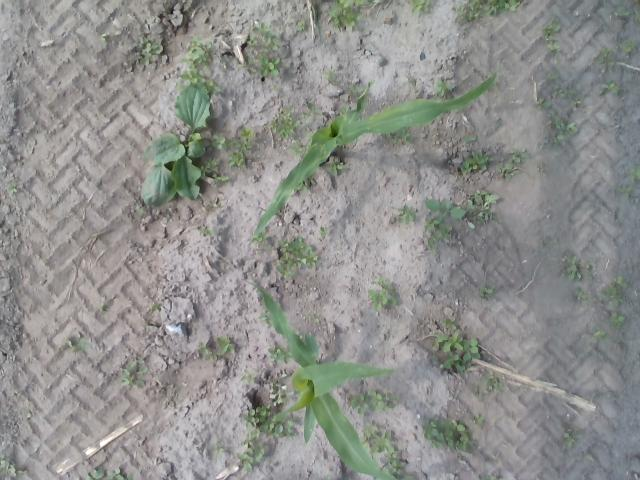Maize: (249, 62, 500, 244), (245, 280, 412, 480)
Weeds: (142, 84, 210, 211), (422, 190, 500, 248), (535, 84, 582, 148), (238, 24, 282, 78), (432, 331, 480, 373), (422, 416, 471, 454), (453, 0, 525, 24), (276, 236, 318, 276), (210, 128, 252, 167), (347, 389, 402, 416), (264, 102, 301, 142), (328, 0, 370, 29), (361, 420, 396, 454), (176, 69, 223, 94), (366, 278, 399, 312), (597, 275, 631, 308), (182, 34, 213, 66), (268, 373, 296, 408), (500, 148, 530, 180), (472, 370, 501, 402), (202, 158, 230, 188), (137, 35, 164, 66), (238, 445, 268, 472), (120, 358, 147, 388), (458, 150, 491, 174), (198, 337, 234, 359), (62, 333, 94, 357), (240, 406, 274, 428), (270, 412, 296, 438), (389, 202, 416, 227), (558, 252, 582, 280), (84, 469, 134, 480), (543, 22, 561, 51), (267, 346, 293, 366), (388, 130, 418, 146), (380, 452, 404, 472), (240, 426, 264, 446), (302, 103, 324, 124), (563, 428, 584, 448), (286, 138, 306, 158), (597, 46, 614, 68), (591, 324, 610, 343), (436, 77, 452, 99), (598, 81, 618, 98), (326, 156, 344, 174), (572, 287, 588, 306), (242, 368, 258, 386), (410, 0, 430, 14), (608, 311, 628, 325), (198, 222, 215, 238), (324, 66, 339, 84), (440, 315, 458, 330), (546, 70, 562, 86), (479, 283, 496, 298), (406, 73, 419, 92), (252, 232, 268, 247), (258, 310, 272, 327), (210, 440, 223, 458), (584, 262, 596, 281), (620, 40, 634, 56), (613, 8, 634, 18), (0, 453, 11, 472), (614, 184, 634, 194), (150, 302, 164, 316), (318, 226, 331, 241), (627, 168, 640, 183), (471, 414, 487, 425), (100, 296, 110, 313), (480, 472, 500, 480), (461, 135, 476, 144), (7, 182, 18, 194), (134, 206, 147, 216), (296, 18, 304, 34), (298, 181, 314, 189), (306, 313, 320, 322), (344, 86, 364, 92), (584, 451, 596, 460), (542, 235, 550, 245), (434, 130, 441, 138), (220, 61, 227, 68), (102, 33, 108, 41)
